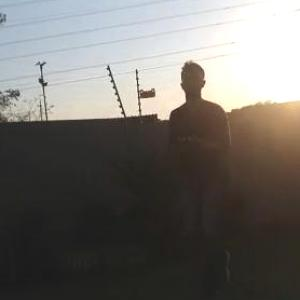follow: (163, 55, 241, 299)
